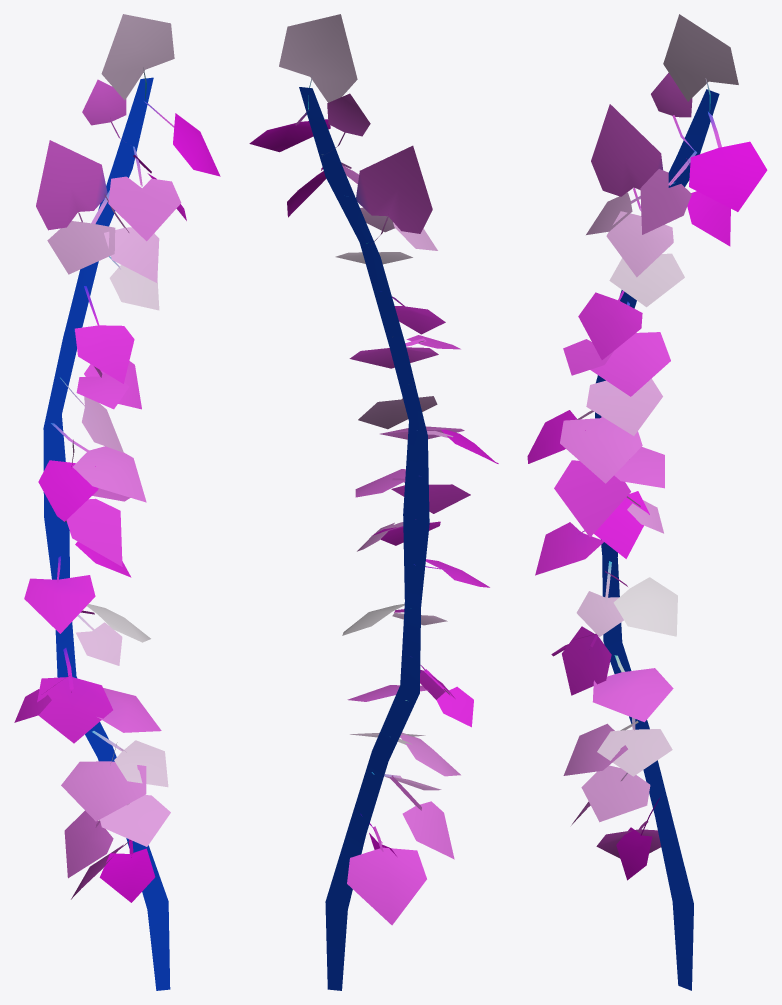
The model's file is English_Ivy_xfcnebhqx_Mid_xfcnebhqx_VarC_LOD1.fbx.
3 views of the same model, side by side, from view 1: azimuth 30°, elevation 25°; view 2: azimuth 150°, elevation 25°; view 3: azimuth 330°, elevation 25° (orthographic). The views are drawn at different scales.
Visible parts, largest first — view 1: _m9st_VarC_LOD3; view 2: _m9st_VarC_LOD3; view 3: _m9st_VarC_LOD3.
Part boxes in pixels (x1=…): _m9st_VarC_LOD3: x1=14, y1=14, x2=220, y2=990; _m9st_VarC_LOD3: x1=249, y1=14, x2=498, y2=990; _m9st_VarC_LOD3: x1=527, y1=14, x2=767, y2=990.
Size of the model in its own units: 16.48 by 75.83 by 8.93.
